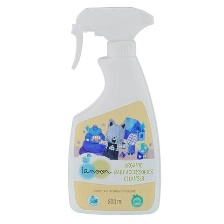cleaning_solution: (65, 3, 164, 217)
